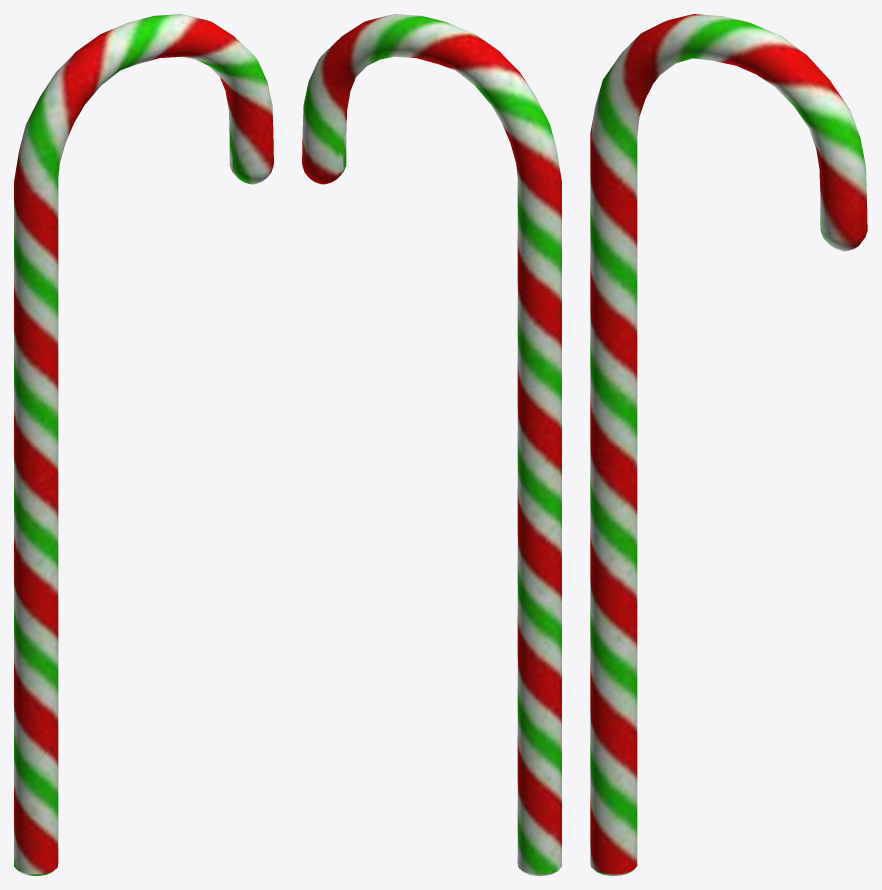
Rendered from Candycane.fbx.
The picture shows the model from 3 angles, left to right: view 1: azimuth 30°, elevation 25°; view 2: azimuth 150°, elevation 25°; view 3: azimuth 330°, elevation 25°; orthographic projection. The views are drawn at different scales.
Parts seen in each view (by area): view 1: Candycane; view 2: Candycane; view 3: Candycane.
Part boxes in pixels (x1,y1,x2,y2): Candycane: (14,14,273,875); Candycane: (302,14,561,875); Candycane: (590,14,867,875).
Bounding box in the file's own units: 305 × 944 × 47.9.
Materials: 1 (1 with a texture image).
